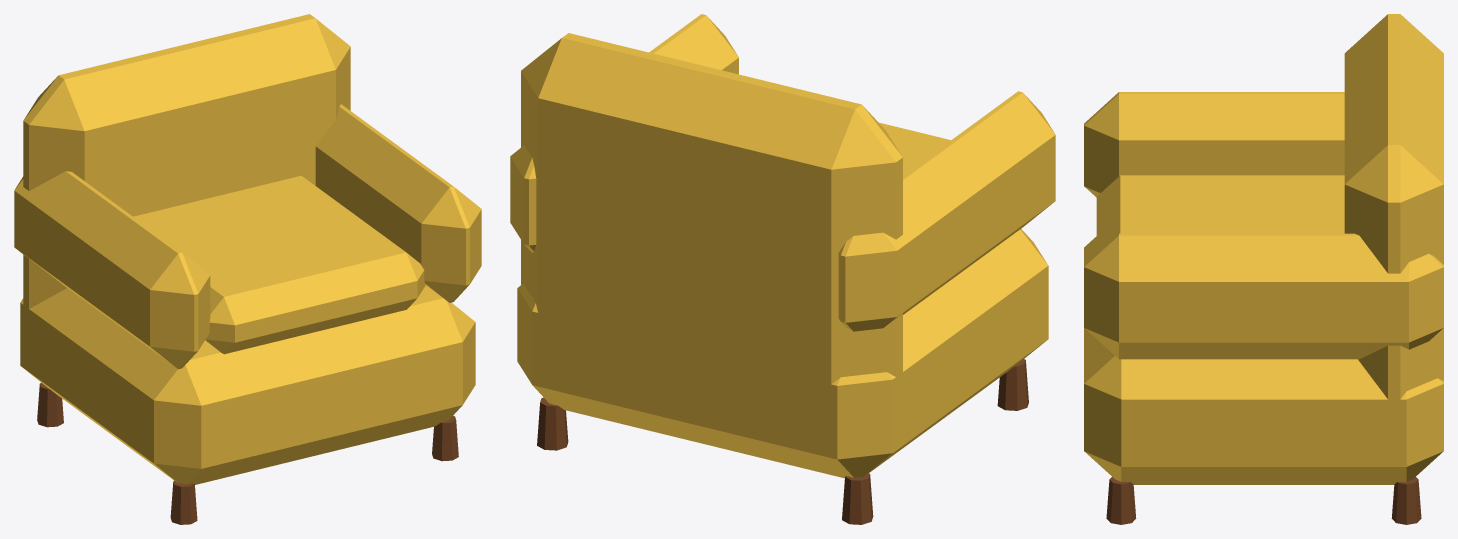
Rendered from YellowArmchair.fbx.
3 renders of one model, left to right at view 1: azimuth 30°, elevation 25°; view 2: azimuth 150°, elevation 25°; view 3: azimuth 270°, elevation 25°, orthographic. The views are drawn at different scales.
Visible parts, largest first — view 1: YellowArmchair; view 2: YellowArmchair; view 3: YellowArmchair.
Boxes of the visible parts, left/top/right/bottom form: YellowArmchair: left=14, top=14, right=481, bottom=524; YellowArmchair: left=510, top=14, right=1055, bottom=524; YellowArmchair: left=1084, top=14, right=1443, bottom=524.
Bounding box in the file's own units: 3.3 × 3.3 × 2.9.
1 material, 1 textured.
